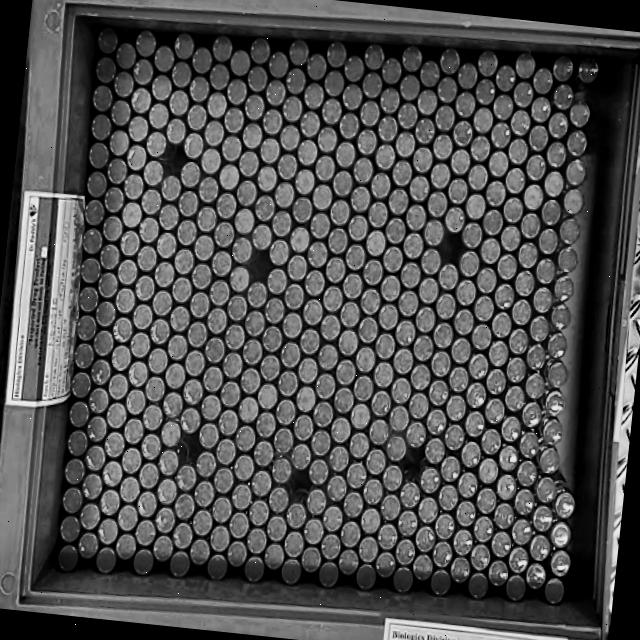vial: (396, 288, 419, 322), (398, 46, 424, 73), (576, 56, 600, 84), (510, 549, 530, 580), (490, 94, 512, 122), (484, 398, 506, 426), (296, 358, 318, 386), (418, 277, 439, 306), (301, 299, 323, 326), (540, 199, 561, 227), (457, 250, 478, 278), (239, 368, 260, 396), (318, 560, 338, 589), (432, 351, 454, 377), (205, 306, 227, 332), (438, 484, 459, 511), (180, 161, 201, 188), (528, 124, 548, 152), (420, 248, 440, 276), (532, 504, 552, 532), (505, 385, 525, 413), (358, 534, 378, 562), (308, 460, 328, 488), (232, 236, 252, 264), (97, 520, 120, 544), (549, 551, 571, 576), (228, 267, 250, 292), (532, 66, 553, 92), (470, 324, 491, 350), (529, 534, 550, 560), (419, 469, 440, 495), (244, 558, 265, 584), (516, 51, 536, 78), (452, 121, 472, 148), (450, 148, 470, 175), (412, 146, 432, 173), (406, 205, 426, 232), (448, 365, 468, 392), (446, 394, 466, 421), (138, 464, 158, 491), (187, 322, 207, 349), (261, 325, 281, 352), (344, 243, 364, 270), (423, 218, 442, 246), (418, 498, 437, 526), (434, 514, 456, 538), (377, 305, 399, 329), (192, 510, 214, 534), (552, 55, 572, 81), (530, 96, 550, 122), (518, 242, 538, 268), (510, 110, 530, 136), (503, 196, 523, 222), (494, 64, 514, 90), (482, 210, 502, 236), (464, 195, 484, 221), (446, 178, 466, 204), (402, 234, 422, 260), (454, 280, 474, 306), (434, 294, 454, 320), (486, 368, 506, 394), (555, 492, 575, 518), (523, 402, 543, 428), (514, 490, 534, 516), (397, 510, 417, 536), (354, 378, 374, 404), (201, 148, 221, 174), (198, 177, 218, 203), (80, 256, 100, 282), (106, 402, 126, 428), (336, 360, 356, 386), (340, 302, 360, 328), (248, 284, 268, 310), (222, 352, 242, 378), (202, 366, 222, 392), (242, 338, 262, 364), (282, 312, 302, 338), (334, 142, 354, 168), (338, 112, 358, 138), (567, 132, 586, 159), (500, 225, 519, 252), (381, 465, 400, 492), (370, 419, 389, 446), (217, 193, 236, 220), (534, 478, 556, 501), (557, 248, 578, 272), (491, 532, 512, 556), (398, 76, 419, 100), (85, 172, 106, 196), (328, 476, 349, 500), (209, 282, 230, 306), (223, 325, 244, 349), (325, 44, 346, 68), (458, 65, 478, 90), (454, 93, 474, 118), (436, 78, 456, 103), (399, 263, 419, 288), (512, 299, 532, 324), (488, 341, 508, 366), (432, 324, 452, 349), (430, 571, 450, 596), (444, 425, 464, 450), (171, 62, 191, 87), (130, 334, 150, 359), (144, 378, 164, 403), (268, 487, 288, 512), (266, 514, 286, 539), (280, 561, 300, 586), (304, 519, 324, 544), (312, 401, 332, 426), (288, 226, 308, 251), (356, 130, 376, 155), (278, 155, 298, 180), (288, 40, 308, 65), (523, 184, 542, 210), (516, 271, 535, 297), (475, 266, 494, 292), (433, 134, 452, 160), (474, 296, 493, 322), (519, 432, 538, 458), (501, 416, 520, 442), (383, 246, 402, 272), (367, 448, 386, 474), (187, 104, 206, 130), (179, 190, 198, 216), (122, 202, 141, 228), (197, 451, 216, 477), (214, 221, 233, 247), (302, 547, 321, 573), (245, 310, 264, 336), (220, 381, 239, 407), (304, 83, 323, 109), (544, 170, 562, 197), (467, 381, 485, 408), (356, 347, 374, 374), (134, 32, 156, 54), (360, 102, 381, 125), (546, 142, 566, 166), (524, 155, 544, 179), (512, 83, 532, 107), (484, 181, 504, 205), (496, 254, 516, 278), (472, 108, 492, 132), (440, 48, 460, 72), (426, 192, 446, 216), (420, 62, 440, 86), (408, 178, 428, 202), (542, 420, 562, 444), (432, 544, 452, 568), (442, 455, 462, 479), (398, 103, 418, 127), (168, 90, 188, 114), (90, 116, 110, 140), (102, 216, 122, 240), (216, 440, 236, 464), (140, 436, 160, 460), (156, 480, 176, 504), (212, 252, 232, 276), (174, 249, 194, 273), (94, 302, 114, 326), (164, 364, 184, 388), (254, 442, 274, 466), (252, 472, 272, 496), (315, 374, 335, 398), (300, 328, 320, 352), (266, 268, 286, 292), (204, 338, 224, 362), (280, 344, 300, 368), (258, 384, 278, 408), (294, 170, 314, 194), (324, 71, 344, 95), (377, 334, 394, 362), (195, 480, 212, 508), (559, 219, 578, 244), (470, 135, 489, 160), (468, 165, 487, 190), (444, 207, 463, 232), (509, 329, 528, 354), (469, 354, 488, 379), (476, 489, 495, 514), (428, 380, 447, 405), (115, 533, 134, 558), (175, 495, 194, 520), (100, 244, 119, 269), (162, 421, 181, 446), (202, 396, 221, 421), (237, 427, 256, 452), (247, 529, 266, 554), (329, 444, 348, 469), (305, 270, 324, 295), (536, 260, 554, 286), (520, 212, 538, 238), (461, 222, 479, 248), (436, 106, 454, 132), (430, 163, 448, 189), (540, 448, 558, 474), (526, 561, 544, 587), (511, 518, 529, 544), (496, 476, 514, 502), (482, 427, 500, 453), (416, 526, 434, 552), (386, 435, 404, 461), (256, 166, 274, 192), (58, 544, 76, 570), (192, 264, 210, 290), (144, 406, 162, 432), (182, 409, 200, 435), (249, 499, 267, 525), (252, 224, 270, 250), (268, 240, 286, 266), (562, 190, 583, 212), (488, 150, 509, 172), (135, 520, 156, 542), (570, 104, 590, 127), (394, 321, 414, 344), (218, 165, 238, 188), (210, 65, 230, 88), (148, 105, 168, 128), (132, 60, 152, 83), (82, 200, 102, 223), (108, 376, 128, 399), (182, 381, 202, 404), (274, 429, 294, 452), (354, 160, 374, 183), (306, 55, 326, 78), (539, 230, 558, 254), (490, 123, 509, 147), (480, 240, 499, 264), (417, 90, 436, 114), (453, 310, 472, 334), (450, 338, 469, 362), (546, 392, 565, 416), (388, 406, 407, 430), (377, 118, 396, 142), (372, 174, 391, 198), (96, 28, 115, 52), (175, 34, 194, 58), (234, 208, 253, 232), (161, 176, 180, 200), (89, 144, 108, 168), (137, 492, 156, 516), (59, 518, 78, 542), (137, 246, 156, 270), (78, 288, 97, 312), (227, 540, 246, 564), (273, 212, 292, 236), (365, 46, 384, 70), (508, 139, 526, 164), (416, 119, 434, 144), (438, 263, 456, 288), (466, 413, 484, 438), (426, 439, 444, 464), (414, 335, 432, 360), (396, 538, 414, 563), (184, 133, 202, 158), (92, 86, 110, 111), (307, 489, 325, 514), (318, 345, 336, 370), (496, 283, 513, 309), (364, 481, 381, 507), (361, 288, 378, 314), (233, 484, 250, 510), (312, 430, 329, 456), (228, 296, 245, 322), (476, 52, 496, 74), (389, 193, 409, 215), (350, 408, 370, 430), (166, 120, 186, 142), (214, 470, 234, 492), (133, 306, 153, 328), (88, 389, 108, 411), (167, 338, 187, 360), (218, 412, 238, 434), (322, 288, 342, 310), (260, 358, 280, 380), (344, 58, 364, 80), (362, 74, 382, 96), (566, 162, 585, 185), (554, 86, 573, 109), (545, 579, 564, 602), (393, 350, 412, 373), (154, 46, 173, 69), (207, 94, 226, 117), (95, 58, 114, 81), (95, 549, 114, 572), (197, 209, 216, 232), (327, 229, 346, 252), (298, 140, 317, 163), (342, 85, 361, 108), (318, 128, 337, 151), (506, 168, 524, 192), (530, 318, 548, 342), (526, 344, 544, 368), (499, 445, 517, 469), (494, 504, 512, 528), (458, 475, 476, 499), (451, 559, 469, 583), (408, 392, 426, 416), (393, 162, 411, 186), (362, 507, 380, 531), (356, 562, 374, 586), (364, 259, 382, 283), (358, 320, 376, 344), (263, 108, 281, 132), (222, 136, 240, 160), (129, 116, 147, 140), (146, 133, 164, 157), (142, 189, 160, 213), (124, 175, 142, 199), (105, 188, 123, 212), (170, 552, 188, 576), (207, 554, 225, 578), (212, 496, 230, 520), (178, 466, 196, 490), (160, 450, 178, 474), (156, 508, 174, 532), (120, 478, 138, 502), (104, 462, 122, 486), (82, 228, 100, 252), (157, 233, 175, 257), (118, 260, 136, 284), (190, 292, 208, 316), (116, 289, 134, 313), (113, 318, 131, 342), (72, 372, 90, 396), (126, 390, 144, 414), (124, 418, 142, 442), (272, 458, 290, 482), (338, 330, 356, 354), (278, 371, 296, 395), (314, 157, 332, 181), (322, 100, 340, 124), (344, 493, 361, 518), (331, 416, 348, 441), (275, 182, 292, 207), (487, 561, 507, 582), (339, 523, 358, 545), (189, 78, 208, 100), (119, 232, 138, 254), (150, 321, 169, 343), (76, 316, 95, 338), (288, 258, 307, 280), (279, 128, 298, 150), (349, 462, 365, 488), (516, 460, 534, 483), (471, 547, 489, 570), (427, 411, 445, 434), (213, 37, 231, 60), (230, 51, 248, 74), (251, 38, 269, 61), (152, 76, 170, 99), (127, 146, 145, 169), (108, 160, 126, 183), (174, 524, 192, 547), (66, 461, 84, 484), (63, 490, 81, 513), (140, 217, 158, 240), (112, 347, 130, 370), (74, 344, 92, 367), (92, 360, 110, 383), (129, 363, 147, 386), (186, 352, 204, 375), (230, 514, 248, 537), (334, 389, 352, 412), (320, 316, 338, 339), (266, 297, 284, 320), (286, 68, 304, 91), (555, 276, 572, 300), (411, 366, 428, 390), (382, 494, 399, 518), (349, 432, 366, 456), (111, 100, 128, 124), (160, 204, 177, 228), (78, 532, 95, 556), (133, 550, 150, 574), (88, 417, 105, 441), (86, 445, 103, 469), (156, 262, 173, 286), (174, 277, 191, 301), (296, 388, 313, 412), (276, 399, 293, 423), (351, 188, 368, 212), (331, 200, 348, 224), (418, 307, 433, 334), (469, 572, 485, 597), (286, 284, 302, 309), (548, 114, 566, 136), (526, 374, 544, 396), (492, 314, 510, 336), (507, 358, 525, 380), (412, 556, 430, 578), (407, 422, 425, 444), (392, 568, 410, 590), (395, 132, 413, 154), (366, 233, 384, 255), (340, 550, 358, 572), (116, 44, 134, 66), (266, 82, 284, 104), (256, 197, 274, 219), (240, 154, 258, 176), (224, 110, 242, 132), (204, 122, 222, 144), (132, 89, 150, 111), (82, 476, 100, 498), (135, 276, 153, 298), (153, 292, 171, 314), (171, 308, 189, 330), (98, 272, 116, 294), (148, 350, 166, 372), (164, 394, 182, 416), (324, 508, 342, 530), (326, 258, 344, 280), (334, 172, 352, 194), (301, 112, 319, 134), (282, 98, 300, 120), (391, 378, 408, 401), (114, 72, 131, 95), (154, 537, 171, 560), (102, 490, 119, 513), (293, 198, 310, 221), (314, 185, 331, 208), (548, 333, 564, 357), (382, 277, 398, 301), (286, 532, 302, 556), (553, 524, 572, 544), (81, 506, 100, 526), (508, 578, 526, 599), (248, 66, 266, 87), (310, 216, 328, 237), (475, 80, 492, 102), (547, 364, 564, 386), (476, 518, 493, 540), (376, 146, 393, 168), (261, 140, 278, 162), (228, 80, 245, 102), (110, 131, 127, 153), (70, 402, 87, 424), (178, 221, 195, 243), (95, 331, 112, 353), (534, 289, 550, 312), (402, 484, 418, 507), (378, 553, 394, 576), (382, 87, 398, 110), (270, 53, 286, 76), (195, 237, 211, 260), (322, 535, 338, 558), (479, 462, 498, 481), (244, 128, 262, 148), (265, 545, 280, 569), (294, 418, 312, 438), (193, 49, 210, 70), (378, 527, 394, 549), (144, 162, 160, 184), (190, 541, 206, 563), (210, 527, 226, 549), (122, 450, 138, 472), (236, 455, 252, 477), (292, 446, 308, 468), (257, 414, 273, 436), (241, 398, 257, 420), (308, 244, 324, 266), (384, 60, 399, 83), (371, 203, 386, 226), (374, 366, 391, 386), (238, 182, 255, 202), (119, 506, 136, 526), (106, 434, 123, 454), (200, 424, 217, 444), (343, 276, 360, 296), (69, 432, 85, 453), (288, 505, 304, 526), (350, 218, 366, 239), (551, 306, 566, 328), (458, 504, 473, 526), (372, 390, 387, 412), (463, 445, 478, 466), (246, 96, 263, 114), (454, 531, 469, 550), (387, 222, 402, 240)
